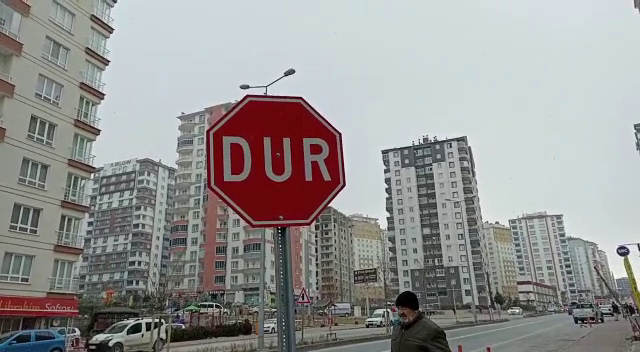stop: (203, 93, 349, 230)
